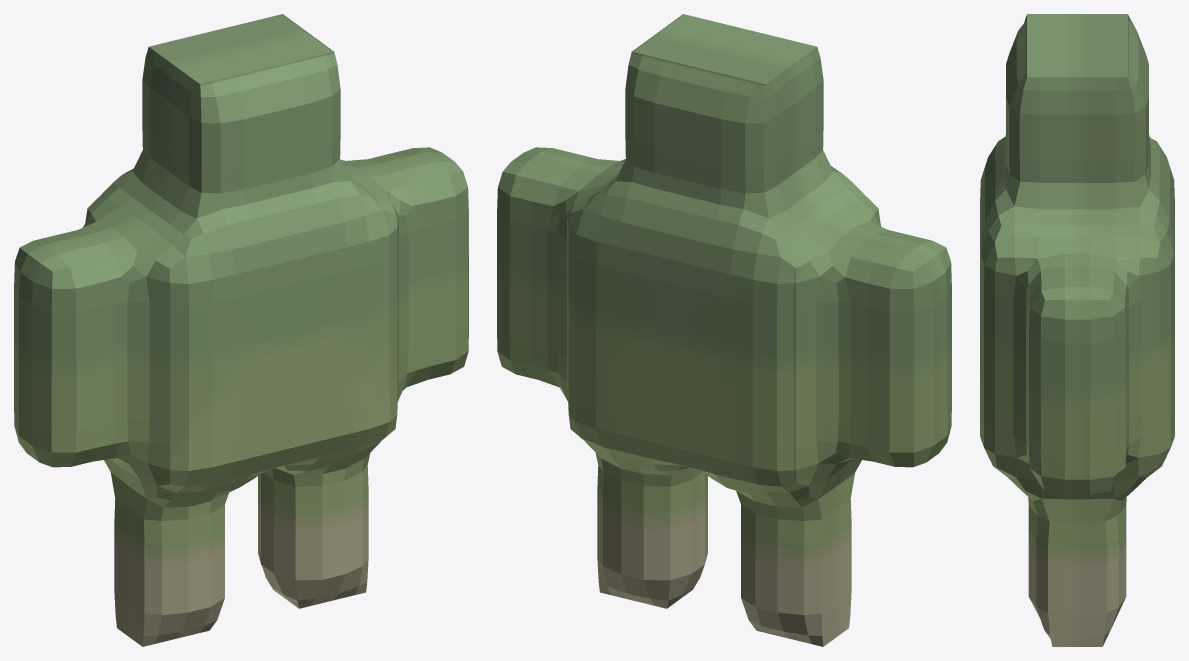
Rendered from homunculus.glb.
3 renders of one model, left to right at view 1: azimuth 30°, elevation 25°; view 2: azimuth 150°, elevation 25°; view 3: azimuth 270°, elevation 25°, orthographic. The views are drawn at different scales.
Visible parts, largest first — view 1: geometry_0; view 2: geometry_0; view 3: geometry_0.
Boxes of the visible parts, <box> form: geometry_0: <box>14,14,468,646</box>; geometry_0: <box>497,14,951,646</box>; geometry_0: <box>980,14,1174,646</box>.
Size of the model in its own units: 0.8065 by 1 by 0.3226.
Materials: 1 (1 with a texture image).
